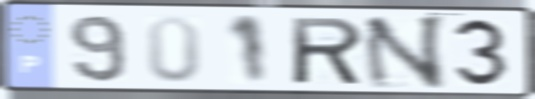0: (144, 13, 204, 86)
1: (224, 13, 271, 88)
3: (450, 15, 512, 90)
9: (65, 12, 129, 84)
N: (359, 13, 449, 91)
R: (288, 15, 367, 87)
